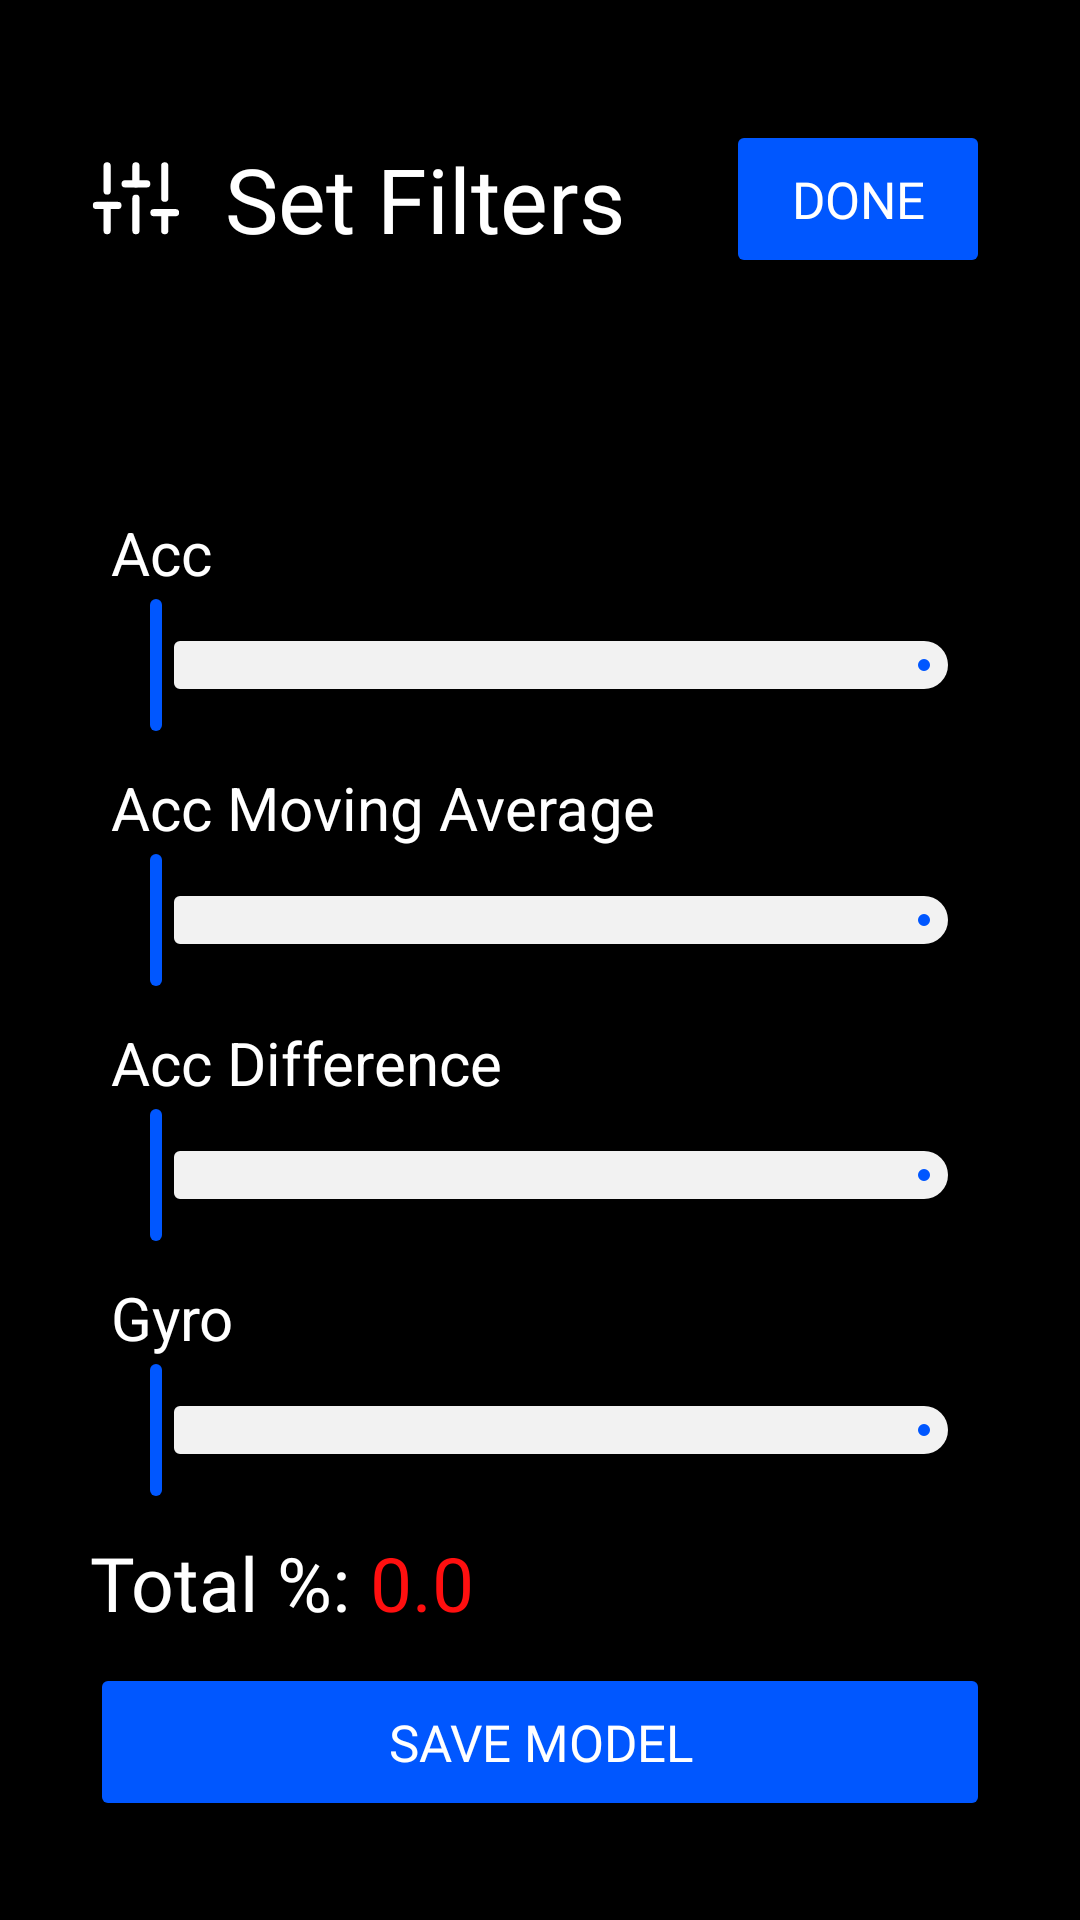

Where icons sit on this 1080x1920 app screen, as [x1, y1, x2, y2]:
sliders: [93, 162, 179, 235]
